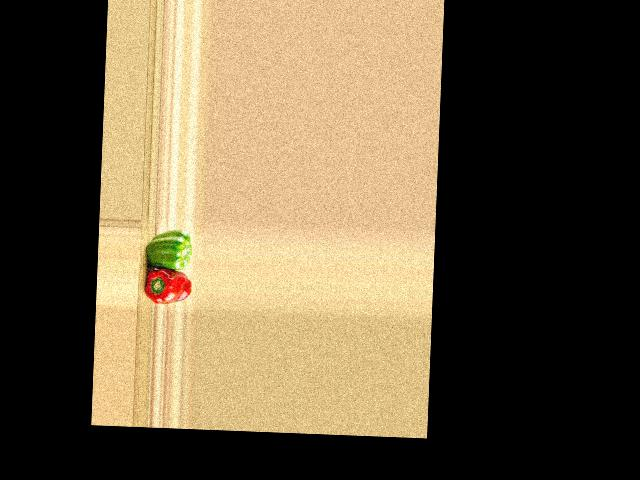bell_pepper: (144, 266, 192, 306)
